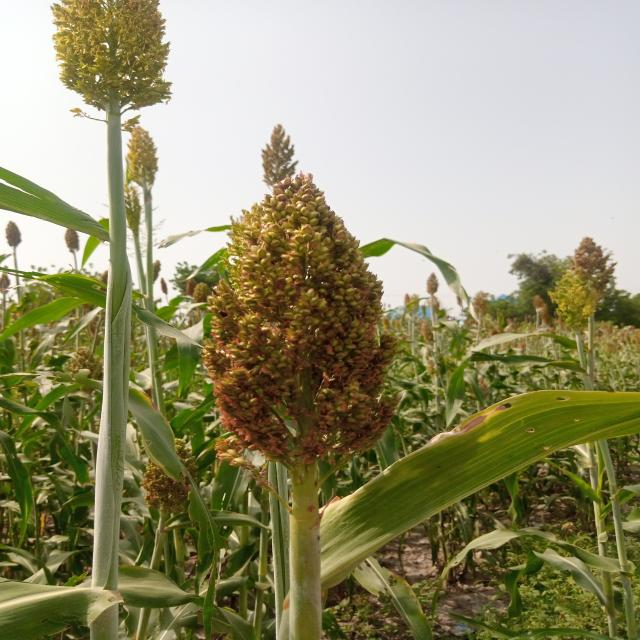UnripeSorghum: (189, 172, 452, 482), (43, 0, 187, 136)
